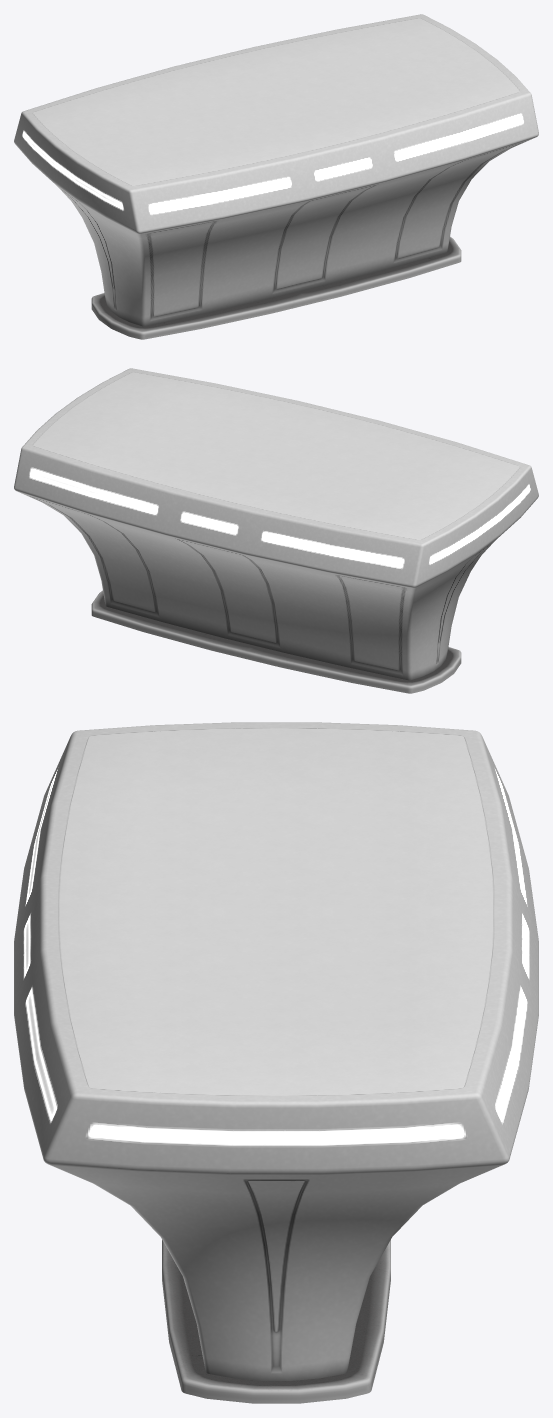
File: Table03.FBX
3 views of the same model, one above another, from view 1: azimuth 30°, elevation 25°; view 2: azimuth 150°, elevation 25°; view 3: azimuth 270°, elevation 25° (orthographic). The views are drawn at different scales.
Visible parts, largest first — view 1: Table03; view 2: Table03; view 3: Table03.
Part boxes in pixels (x1=…): Table03: x1=14, y1=14, x2=538, y2=339; Table03: x1=14, y1=368, x2=538, y2=693; Table03: x1=14, y1=722, x2=538, y2=1403.
Size of what is drawn, in the model's own units: 2.21 by 0.8994 by 1.27.
